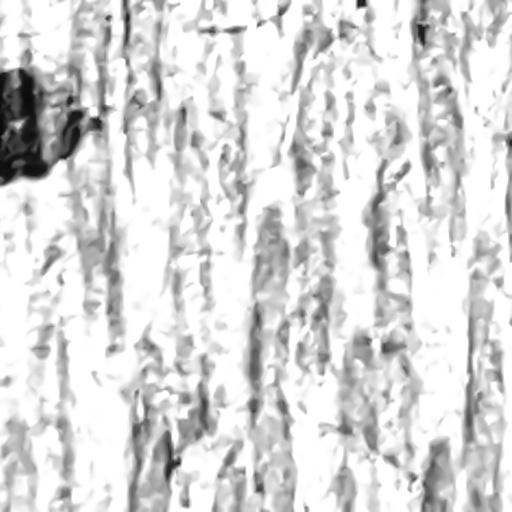egg: (417, 21, 429, 44)
